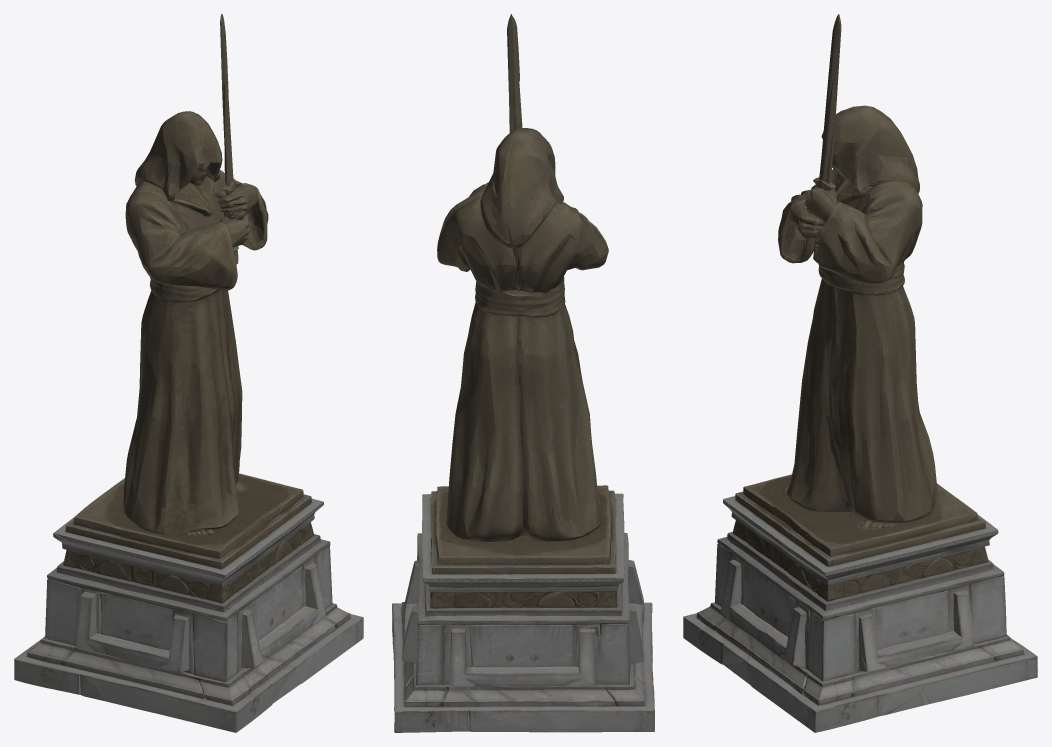
Rendered from statue.glb.
3 renders of one model, left to right at view 1: azimuth 30°, elevation 25°; view 2: azimuth 150°, elevation 25°; view 3: azimuth 270°, elevation 25°, orthographic.
Visible parts, largest first — view 1: statue-centred; view 2: statue-centred; view 3: statue-centred.
Boxes of the visible parts, box(x1,y1,x2,y2) form: statue-centred: box(14, 14, 363, 732); statue-centred: box(392, 14, 654, 732); statue-centred: box(683, 14, 1037, 732).
Bounding box in the file's own units: 13.82 × 28 × 13.74.
1 material, 1 textured.
